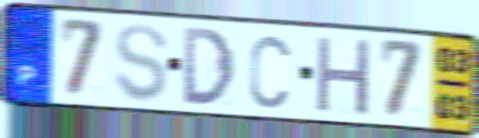7: (56, 16, 110, 100), (376, 36, 429, 121)
C: (247, 32, 292, 111)
D: (181, 25, 239, 108)
H: (314, 33, 374, 118)
S: (111, 21, 170, 105)
